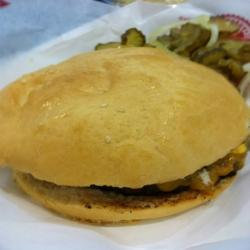burger: (6, 41, 249, 234)
